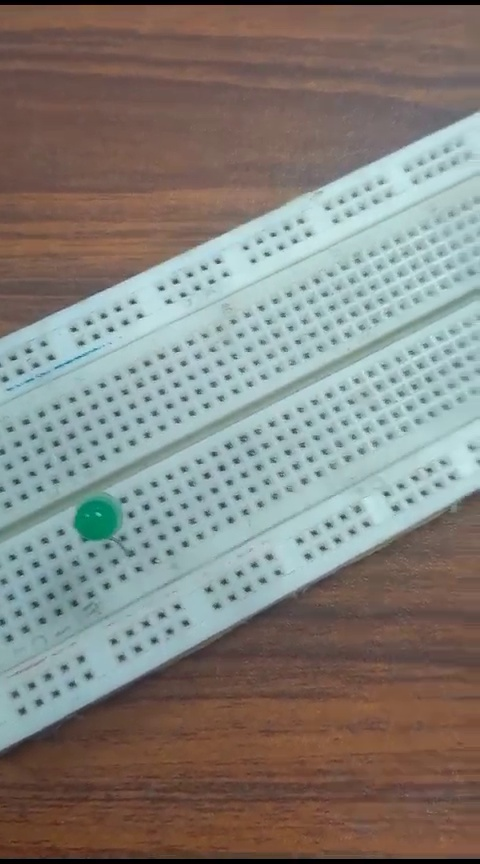LED: (68, 487, 134, 540)
